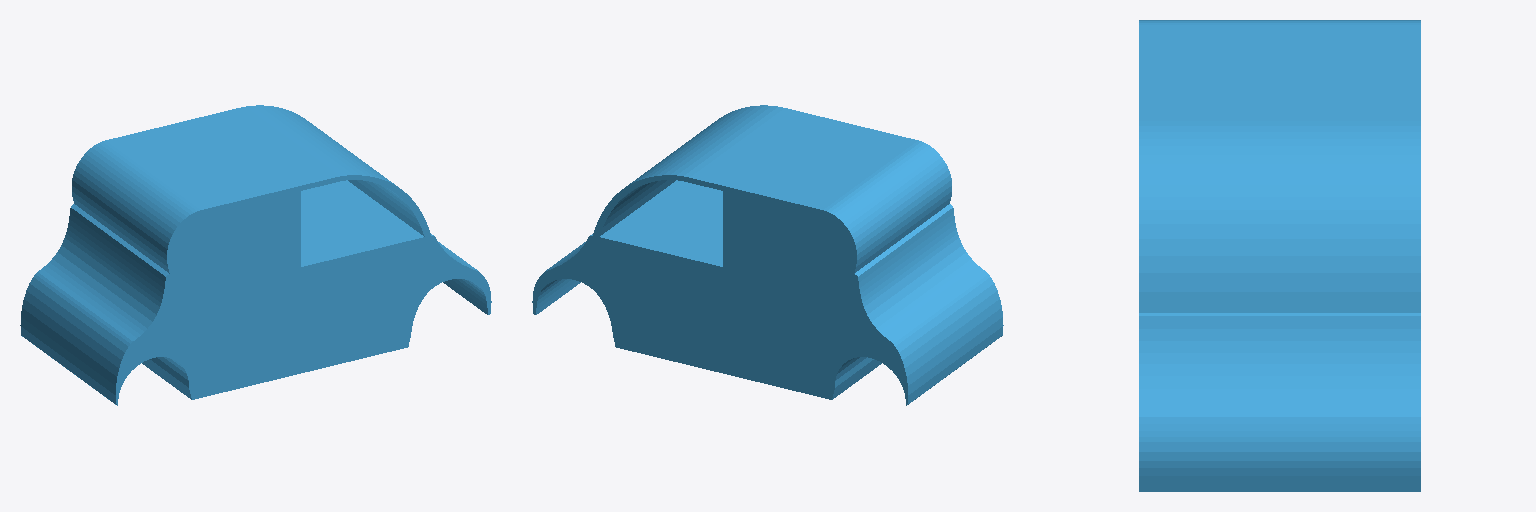
URDF robot description (prius):
<?xml version="1.0"?>
<robot xmlns:xacro="http://ros.org/wiki/xacro" name="prius">

  <link name="base_link">
    <inertial>
      <mass value="1"/>
      <inertia ixx="0.001" ixy="0.0" ixz="0.0" iyy="0.001" iyz="0.0" izz="0.001"/>
    </inertial>
  </link>
  <joint name="base_link_connection" type="fixed">
    <parent link="base_link"/>
    <child link="chassis"/>
    <origin xyz="0 0 0" rpy="0 0 0"/>
    <axis xyz="1 0 0"/>
  </joint>

  <link name="chassis">
    <visual>
      <origin xyz="0 0 0" rpy="0 0 0"/>
      <geometry>
        <mesh filename="package://tutorial_veh_description/meshes/body.obj" scale="1 1 1"/>
      </geometry>
    </visual>

    <collision name="chassis">
      <origin xyz="0 0 0" rpy="0 0 0"/>
      <geometry>
        <mesh filename="package://tutorial_veh_description/meshes/body.obj" scale="1 1 1"/>
      </geometry>
    </collision>

    <inertial>
      <mass value="1e3"/>
      <origin xyz="0 0 0" rpy="0 0 0"/>
      <inertia ixx="1e3" ixy="0.0" ixz="0.0" iyy="1e3" iyz="0.0" izz="1e3"/>
    </inertial>
  </link>
</robot>

--- What the picture shows (computed from the rendered views, not written in the file) ---
3 views of the same robot in one strip: view 1: azimuth 30°, elevation 25°; view 2: azimuth 150°, elevation 25°; view 3: azimuth 270°, elevation 25° (orthographic).
Model prius with 2 links and 1 joints (1 fixed), rooted at base_link, posed all joints at 0.
Links seen in each view (by area): view 1: chassis; view 2: chassis; view 3: chassis.
Boxes of the visible links, bbox=[...] form: chassis: bbox=[20, 105, 491, 405]; chassis: bbox=[532, 105, 1003, 405]; chassis: bbox=[1139, 20, 1420, 491].
Bounding box of the posed robot: 3.21 × 1.41 × 1.53 m (x, y, z).
1 mesh visuals loaded from 1 distinct referenced files (1 OBJ).